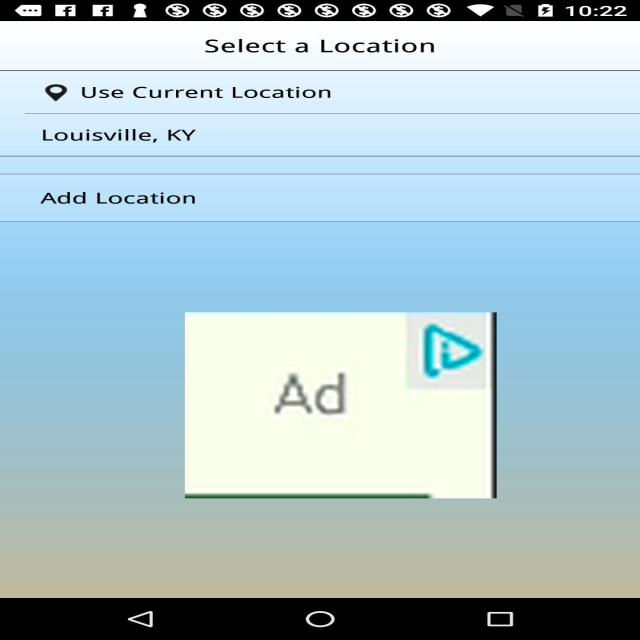sneaking: (185, 312, 496, 498)
